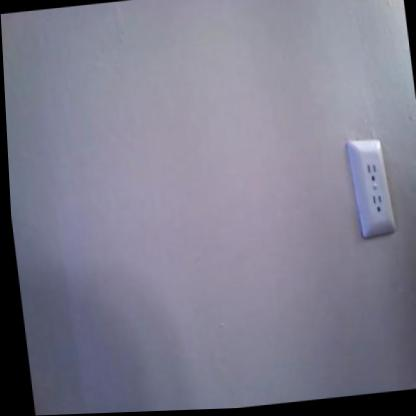OUTLET: (348, 139, 396, 238)
